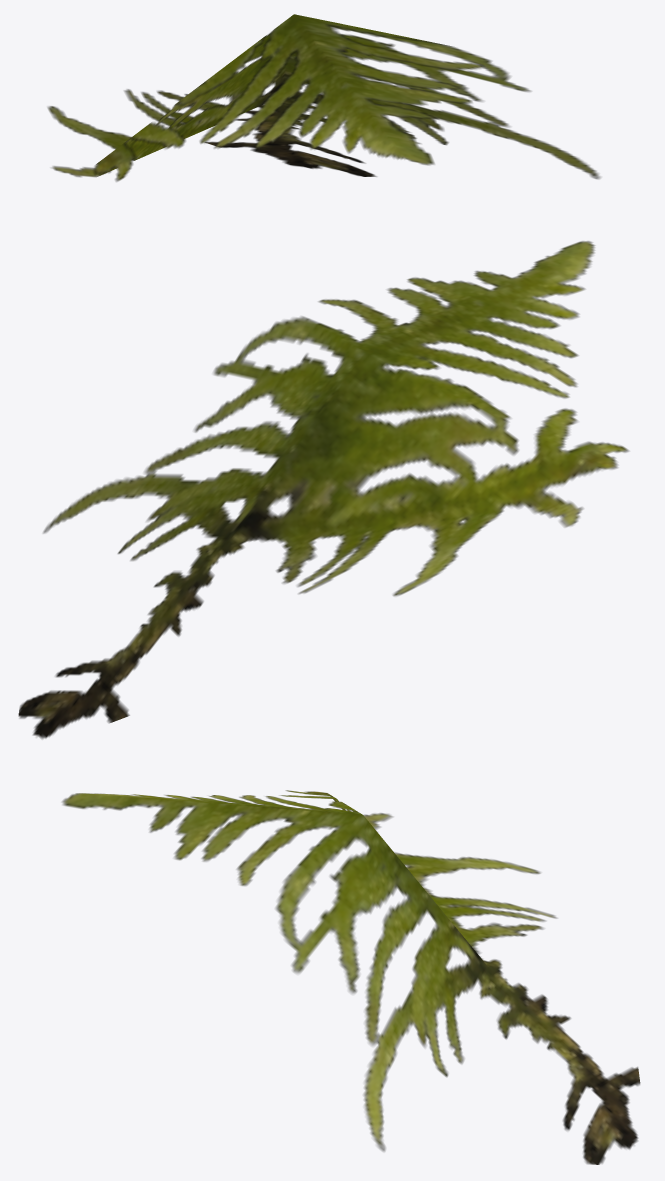
Rendered from moss_09.glb.
3 views of the same model, one above another, from view 1: azimuth 30°, elevation 25°; view 2: azimuth 150°, elevation 25°; view 3: azimuth 270°, elevation 25° (orthographic). The views are drawn at different scales.
Parts seen in each view (by area): view 1: IslandMoss09; view 2: IslandMoss09; view 3: IslandMoss09.
Part boxes in pixels (left/top/right/bottom): IslandMoss09: left=47, top=14, right=600, bottom=181; IslandMoss09: left=18, top=241, right=628, bottom=739; IslandMoss09: left=62, top=790, right=640, bottom=1164.
Bounding box in the file's own units: 0.0166 × 0.00901 × 0.0188.
Materials: 1 (1 with a texture image).
